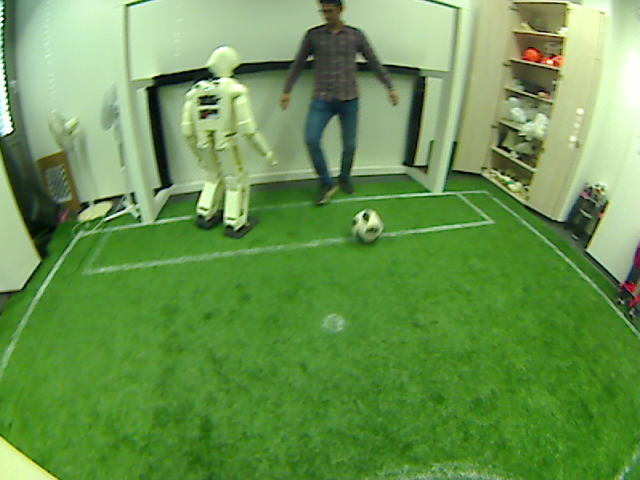ball: (357, 214, 379, 238)
goalpost: (427, 154, 446, 193), (140, 190, 157, 224)
robot: (192, 156, 258, 231)
